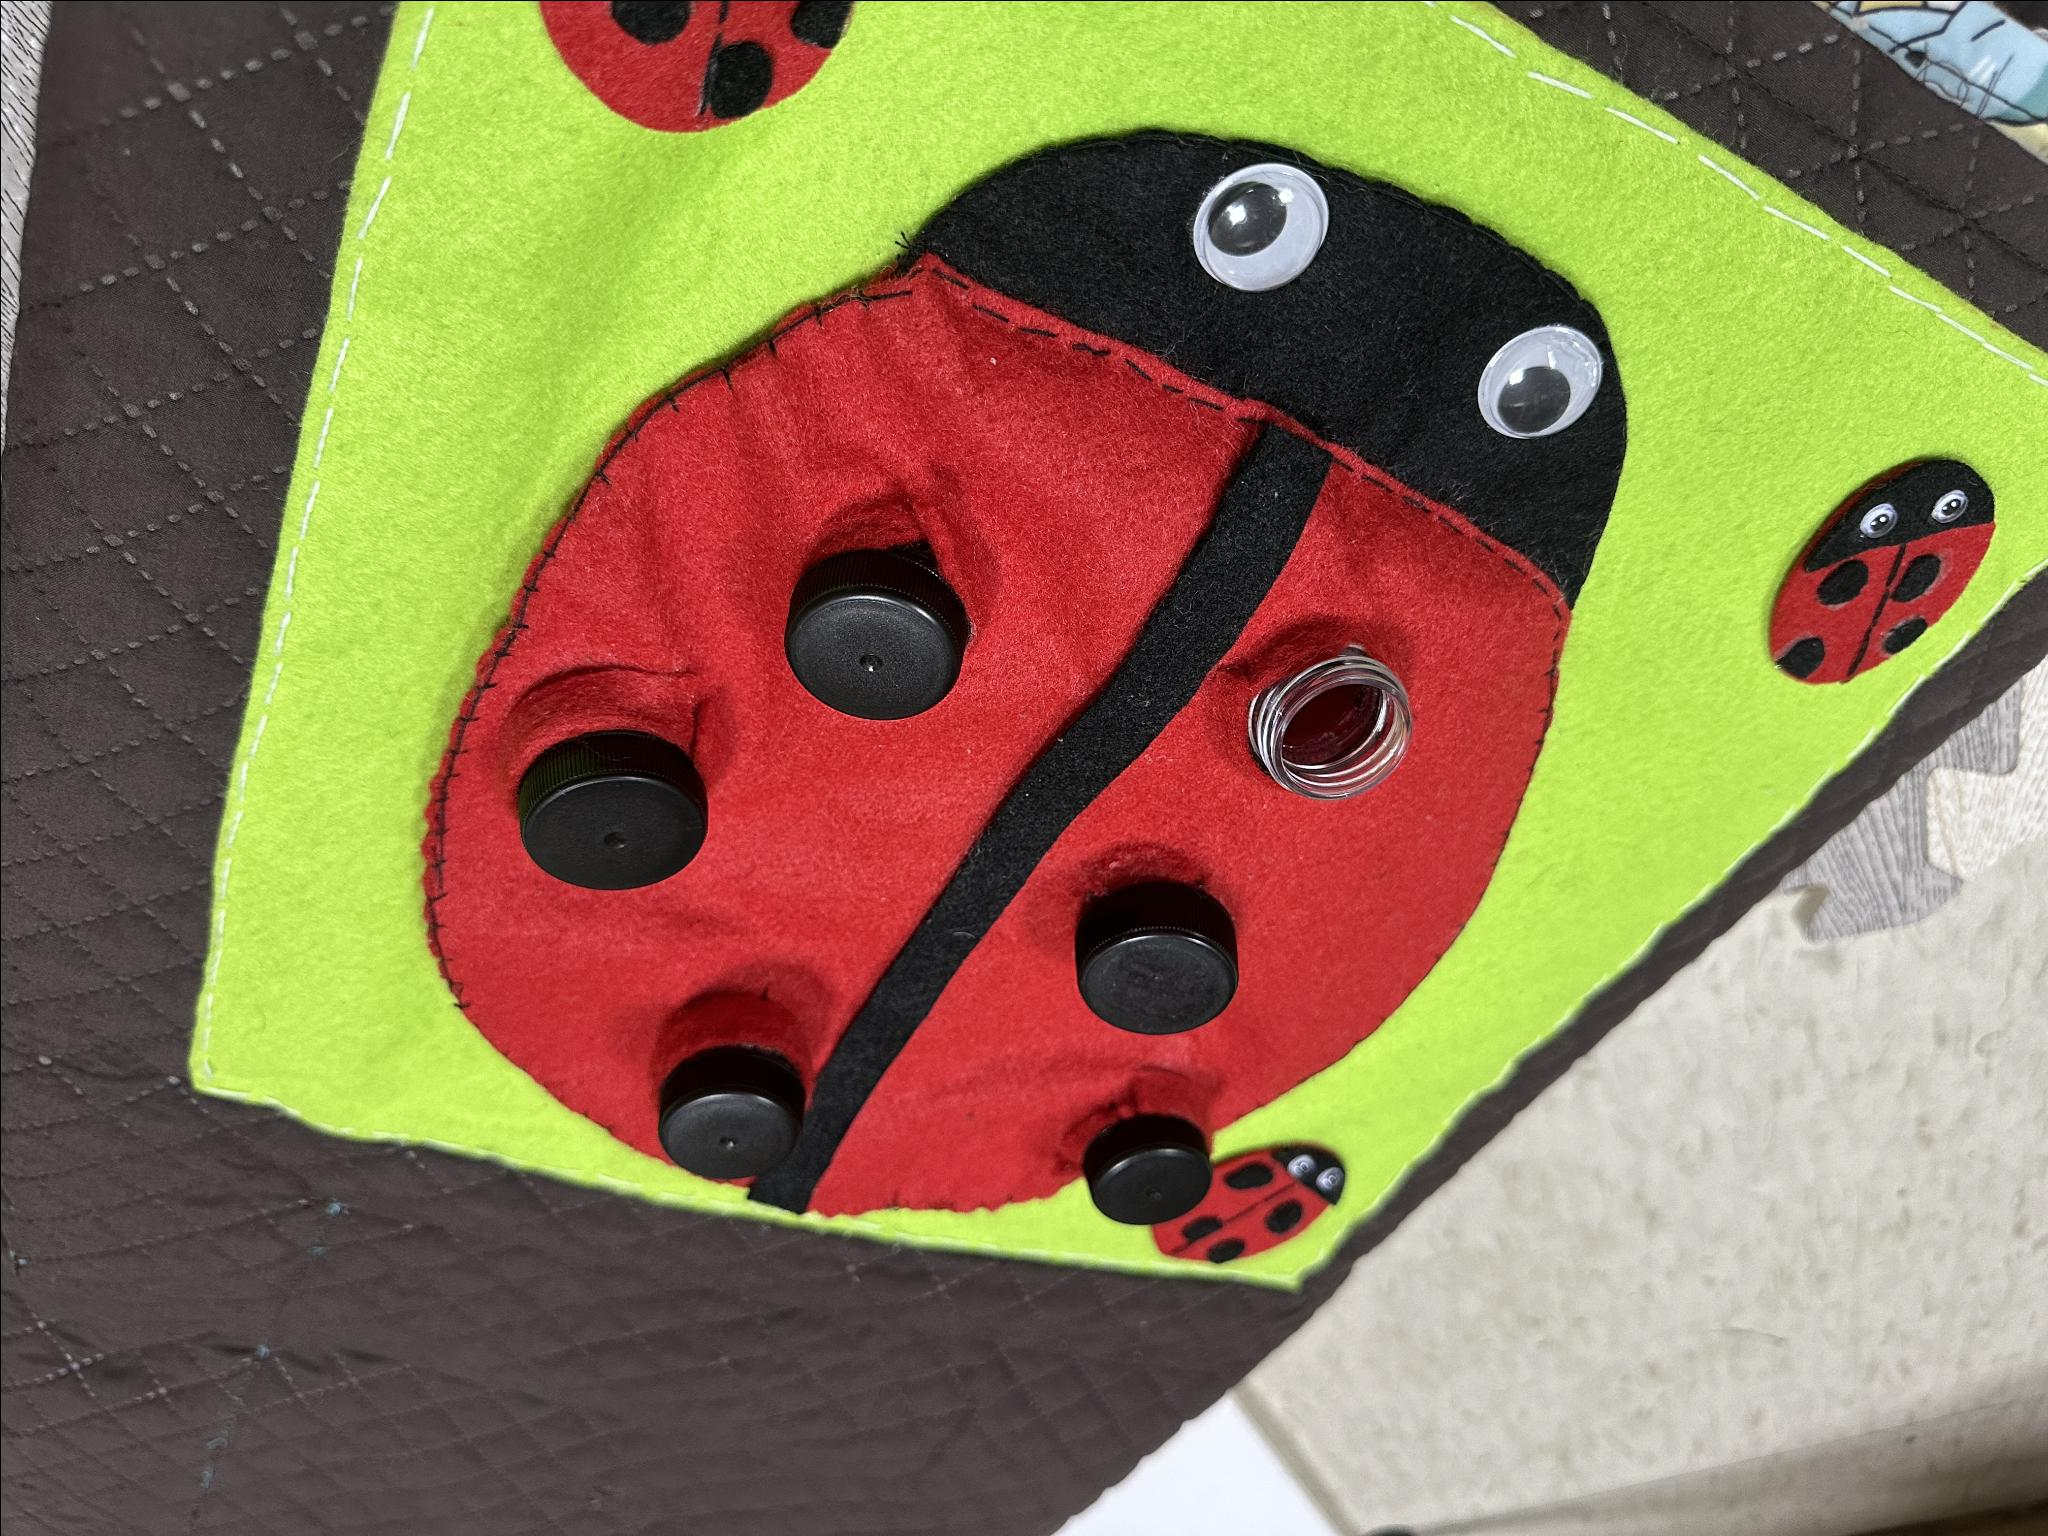cap_ok: (748, 500, 998, 750), (484, 666, 722, 900), (1043, 868, 1269, 1050), (627, 995, 819, 1191), (1068, 1086, 1232, 1228)
